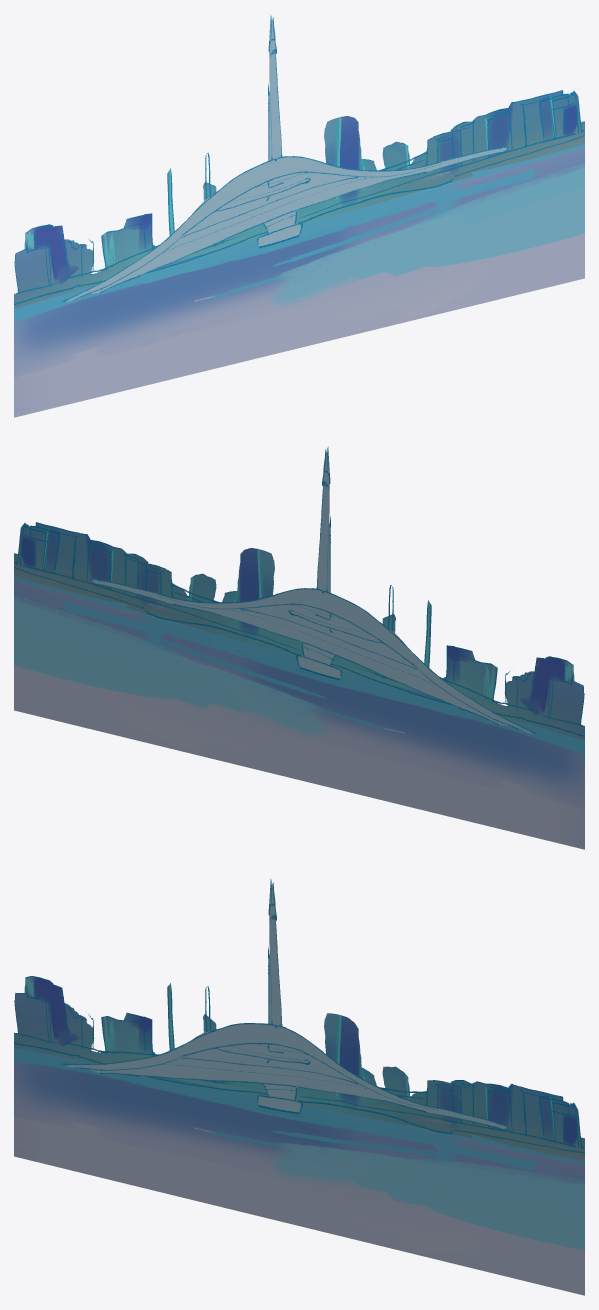
3 renders of one model, top to bottom at view 1: azimuth 30°, elevation 25°; view 2: azimuth 150°, elevation 25°; view 3: azimuth 330°, elevation 25°, orthographic.
Parts seen in each view (by area): view 1: mask_bg_3; view 2: mask_bg_3; view 3: mask_bg_3.
Boxes of the visible parts, x1,y1,x2,y2 form: mask_bg_3: (14,14,584,417); mask_bg_3: (14,446,584,849); mask_bg_3: (14,878,584,1295).
Size of the model in its own units: 10 by 5.71 by 1.53e-07.
1 material, 1 textured.
